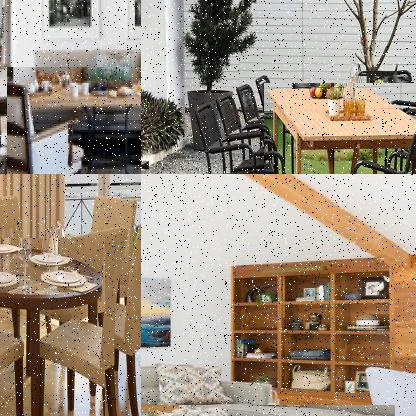table: (0, 238, 106, 415), (5, 67, 140, 173), (263, 82, 415, 173)
